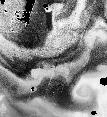CE: (73, 79, 97, 101)
